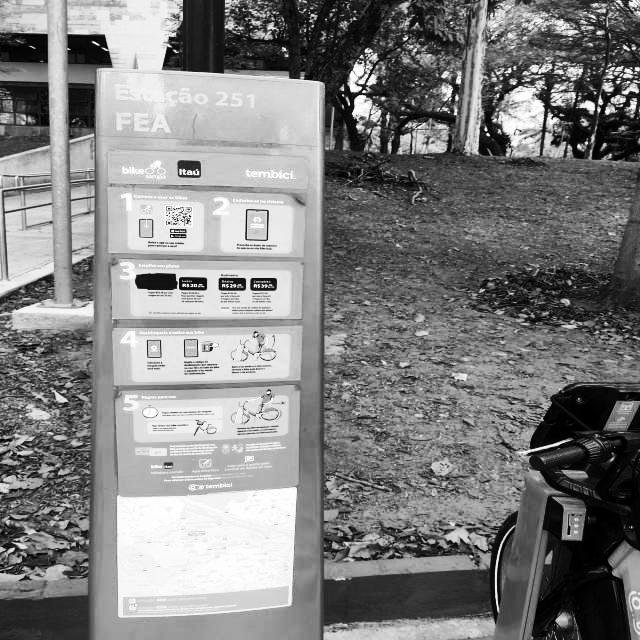qr_code: (166, 206, 192, 226)
